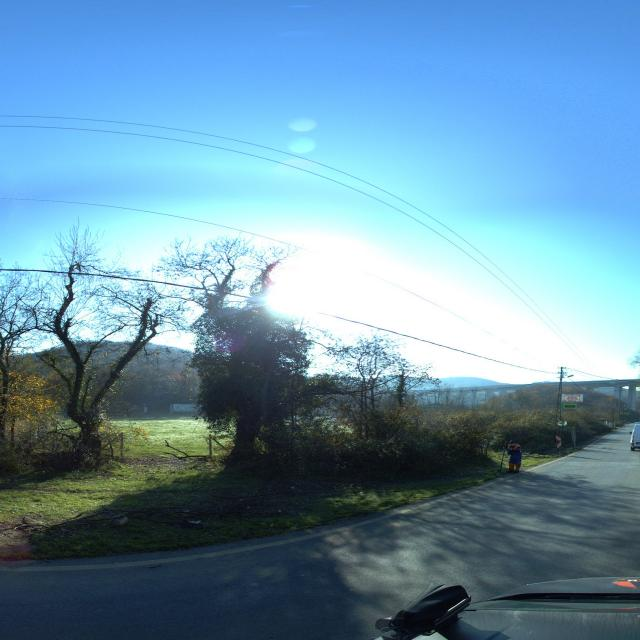Utility Pole Information Plate: (556, 412, 559, 415)
